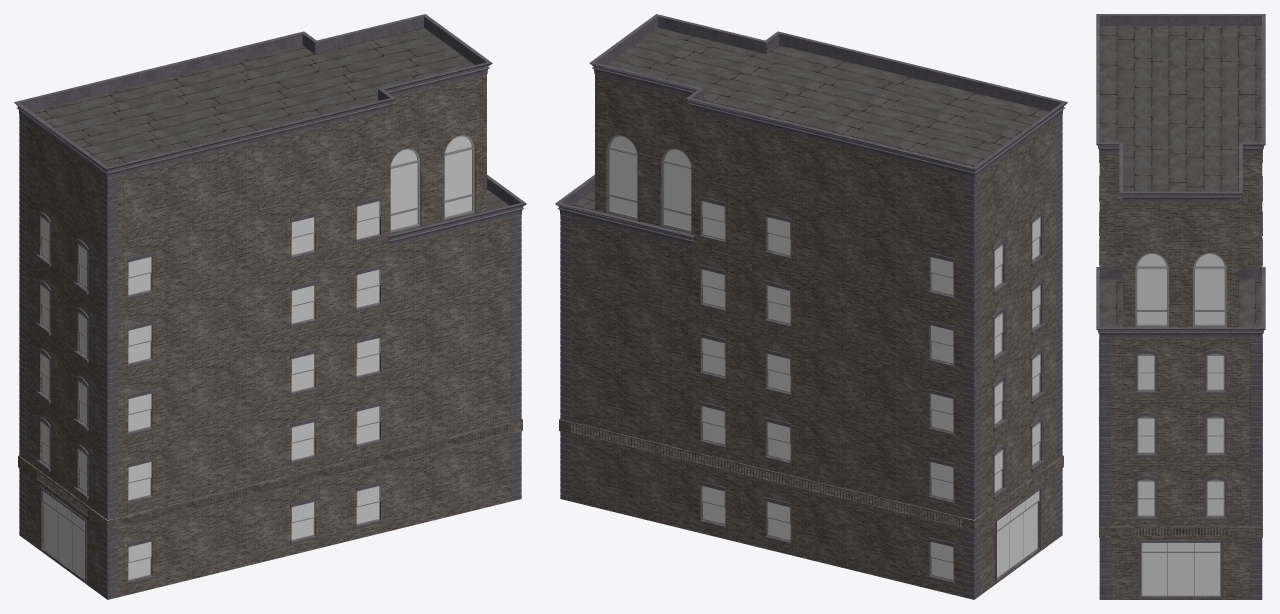
Rendered from Building_16.fbx.
3 renders of one model, left to right at view 1: azimuth 30°, elevation 25°; view 2: azimuth 150°, elevation 25°; view 3: azimuth 270°, elevation 25°, orthographic. The views are drawn at different scales.
Parts seen in each view (by area): view 1: Building_15_LOD0; view 2: Building_15_LOD0; view 3: Building_15_LOD0.
Part boxes in pixels (left/top/right/bottom): Building_15_LOD0: left=14, top=14, right=526, bottom=599; Building_15_LOD0: left=555, top=14, right=1067, bottom=599; Building_15_LOD0: left=1096, top=14, right=1265, bottom=599.
Size of what is drawn, in the model's own units: 2355 by 2316 by 892.
